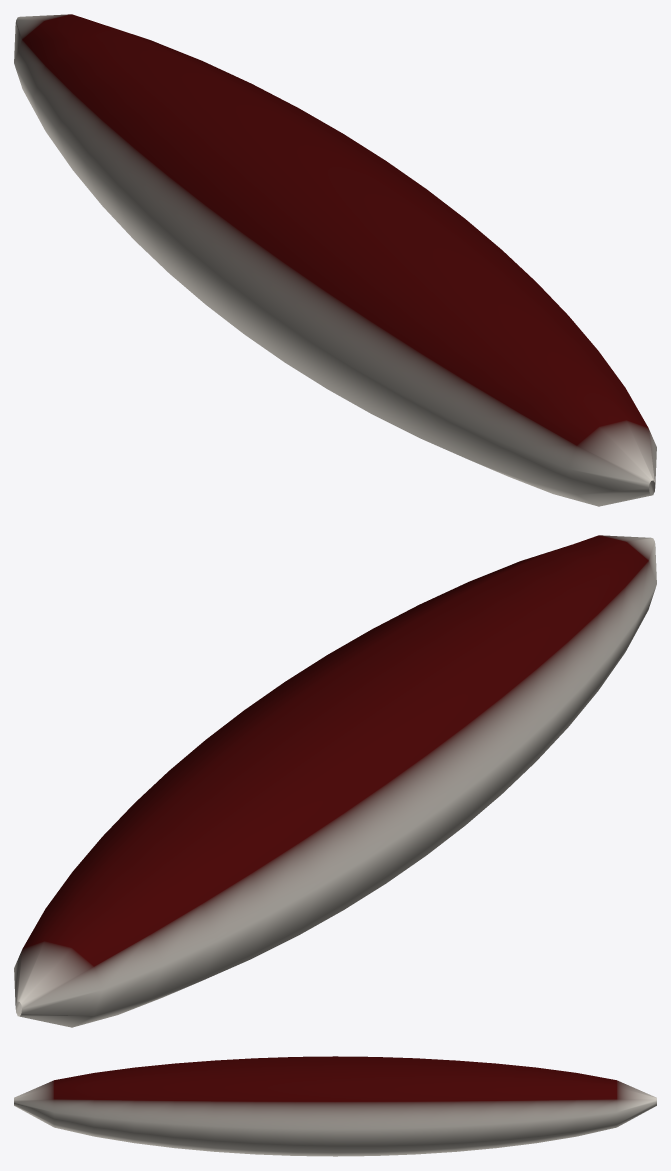
File: Prop_Kayak.glb
The picture shows the model from 3 angles, top to bottom: view 1: azimuth 30°, elevation 25°; view 2: azimuth 150°, elevation 25°; view 3: azimuth 270°, elevation 25°; orthographic projection. The views are drawn at different scales.
Parts seen in each view (by area): view 1: Prop_Kayak; view 2: Prop_Kayak; view 3: Prop_Kayak.
Boxes of the visible parts, x1,y1,x2,y2 form: Prop_Kayak: [14, 14, 656, 506]; Prop_Kayak: [14, 535, 656, 1027]; Prop_Kayak: [14, 1056, 656, 1156].
Bounding box in the file's own units: 0.7 × 0.4812 × 3.4.
